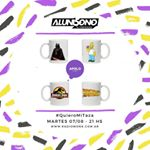cups: (39, 37, 71, 64), (79, 38, 111, 65), (39, 80, 71, 107), (78, 80, 110, 107)
